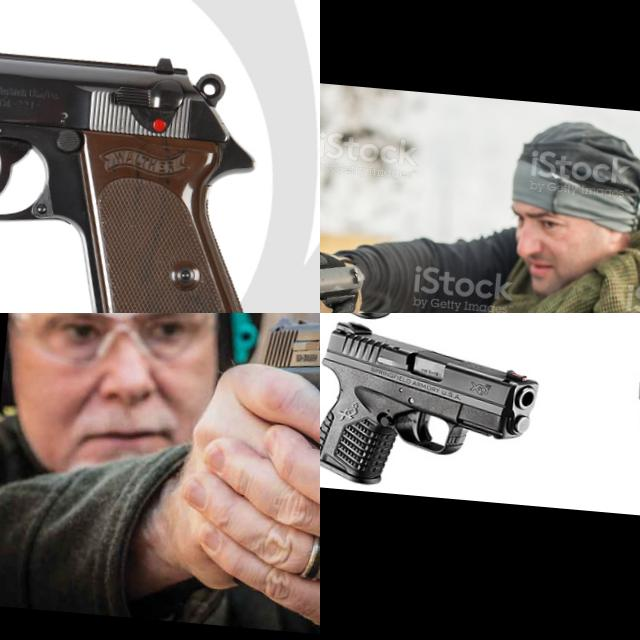handgun: (0, 23, 278, 313), (320, 316, 545, 504), (320, 313, 561, 417), (248, 313, 320, 480), (320, 250, 397, 313)
